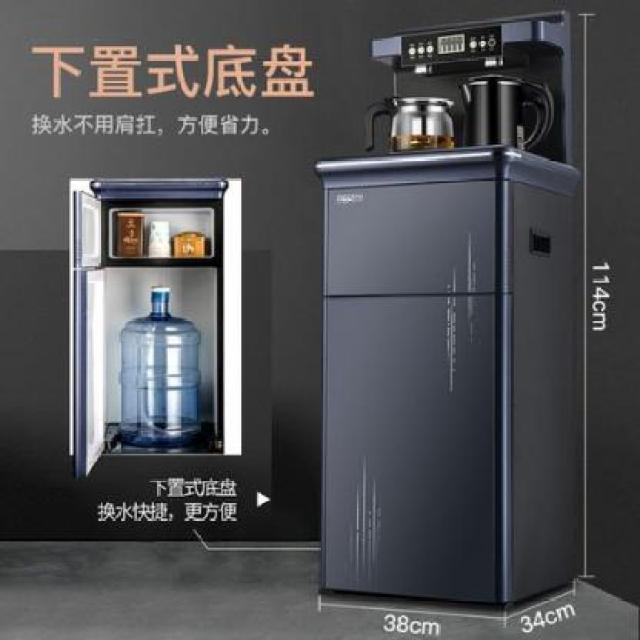coolerbottle: (114, 280, 205, 447)
